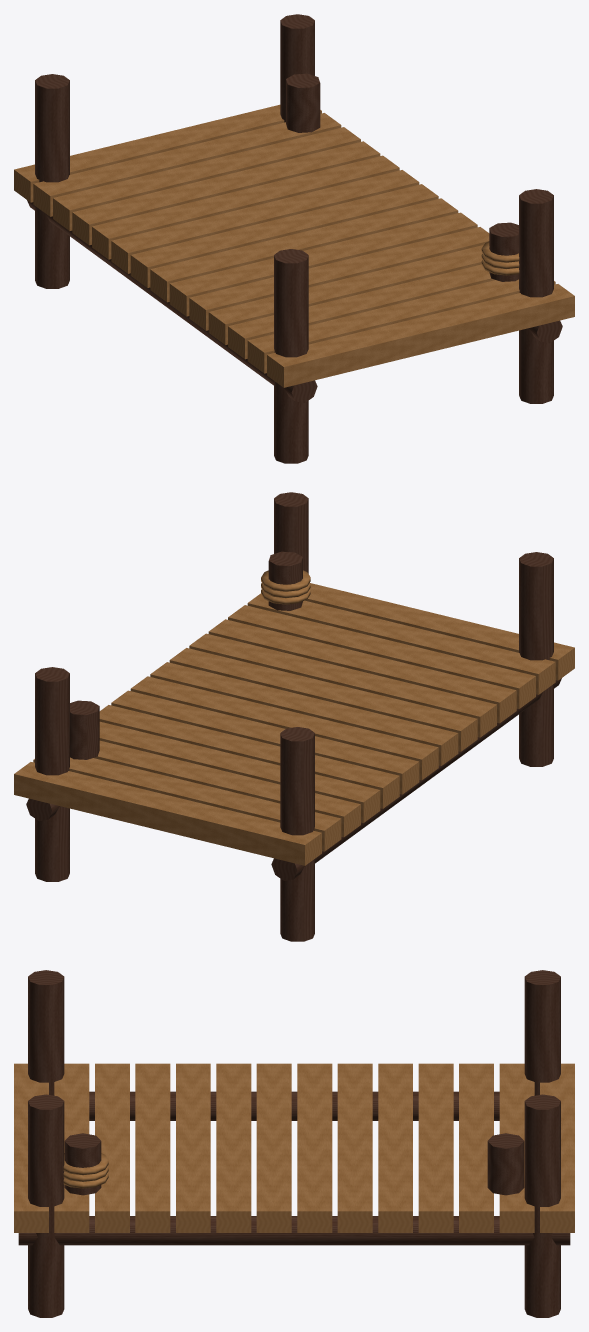
The model's file is landing_dock.glb.
The picture shows the model from 3 angles, top to bottom: view 1: azimuth 30°, elevation 25°; view 2: azimuth 150°, elevation 25°; view 3: azimuth 270°, elevation 25°; orthographic projection. The views are drawn at different scales.
Parts seen in each view (by area): view 1: landing_dock; view 2: landing_dock; view 3: landing_dock.
Boxes of the visible parts, bbox=[...] form: landing_dock: bbox=[14, 14, 574, 463]; landing_dock: bbox=[14, 492, 574, 941]; landing_dock: bbox=[14, 970, 574, 1317].
Bounding box in the file's own units: 1.9 × 1.25 × 3.05.
2 materials, 2 textured.
